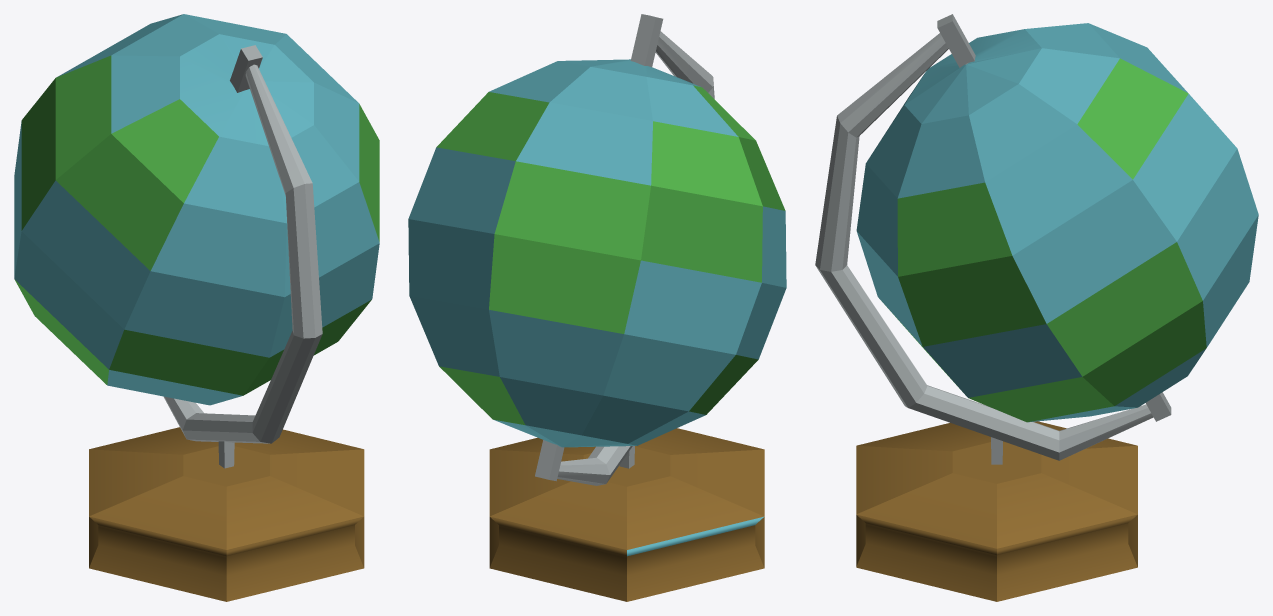
Rendered from globe.fbx.
3 renders of one model, left to right at view 1: azimuth 30°, elevation 25°; view 2: azimuth 150°, elevation 25°; view 3: azimuth 270°, elevation 25°, orthographic. The views are drawn at different scales.
Visible parts, largest first — view 1: pCube199; view 2: pCube199; view 3: pCube199.
Boxes of the visible parts, x1,y1,x2,y2 form: pCube199: (14,14,379,601); pCube199: (408,14,786,601); pCube199: (815,14,1258,601).
Size of the model in its own units: 0.0338 by 0.0478 by 0.0373.
